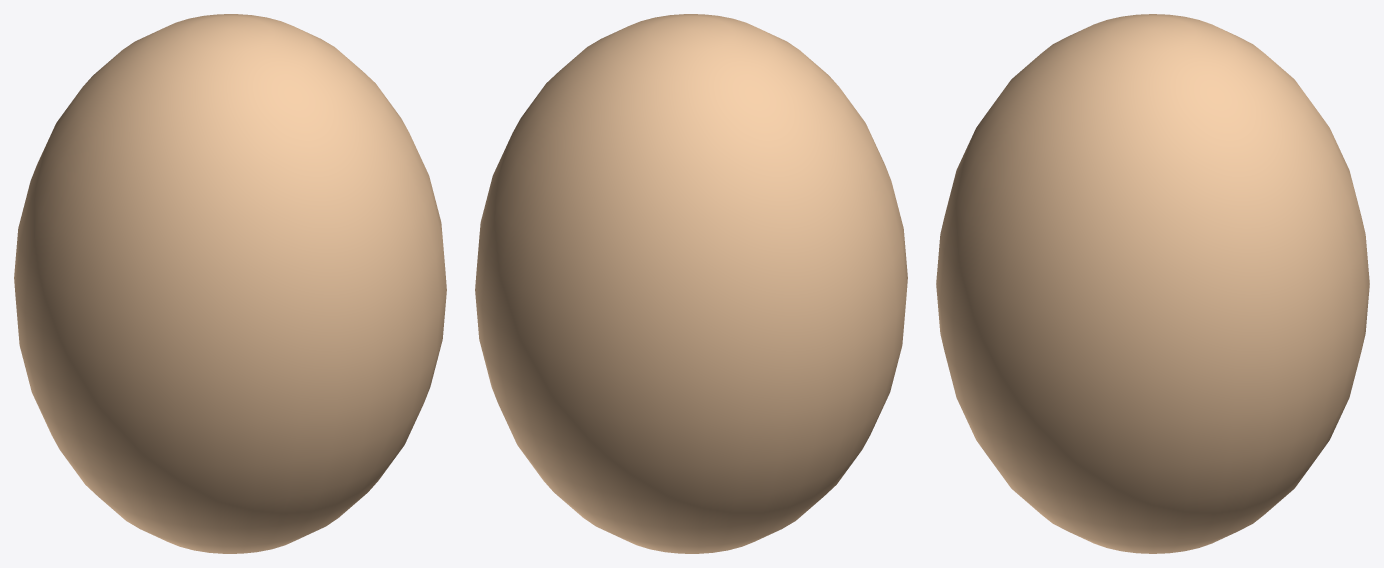
Rendered from egg.obj.
3 views of the same model, side by side, from view 1: azimuth 30°, elevation 25°; view 2: azimuth 150°, elevation 25°; view 3: azimuth 270°, elevation 25° (orthographic).
Parts seen in each view (by area): view 1: Sphere; view 2: Sphere; view 3: Sphere.
Boxes of the visible parts, x1,y1,x2,y2 form: Sphere: [14, 14, 446, 553]; Sphere: [475, 14, 907, 553]; Sphere: [936, 14, 1369, 553].
Bounding box in the file's own units: 2 × 2.59 × 2.
1 material, 1 textured.
